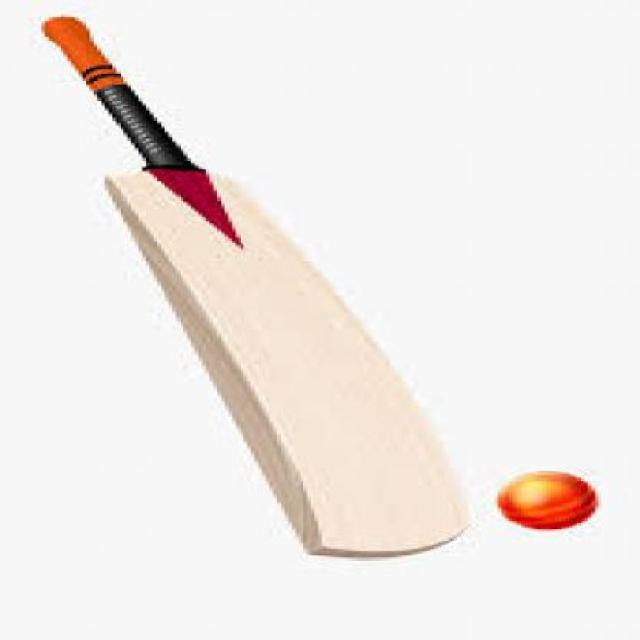ball: (487, 430, 628, 565)
